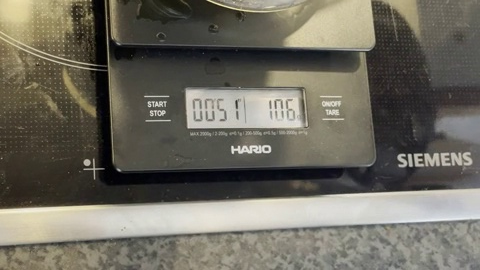display: (186, 88, 306, 127)
